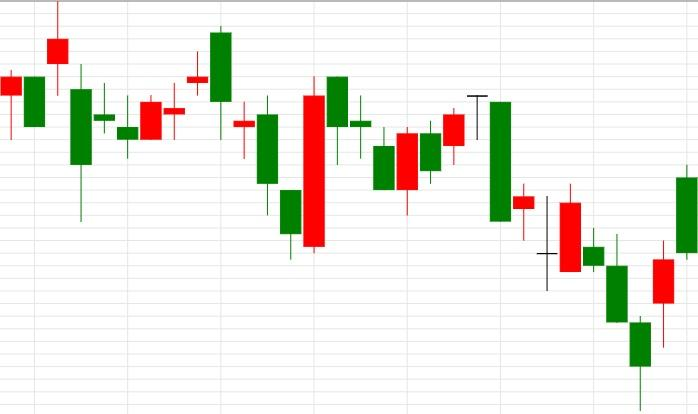bearish_engulfing_fall: (117, 27, 231, 159)
evening_star_fall: (373, 94, 512, 222)
three_black_crows_fall: (536, 183, 652, 411)
